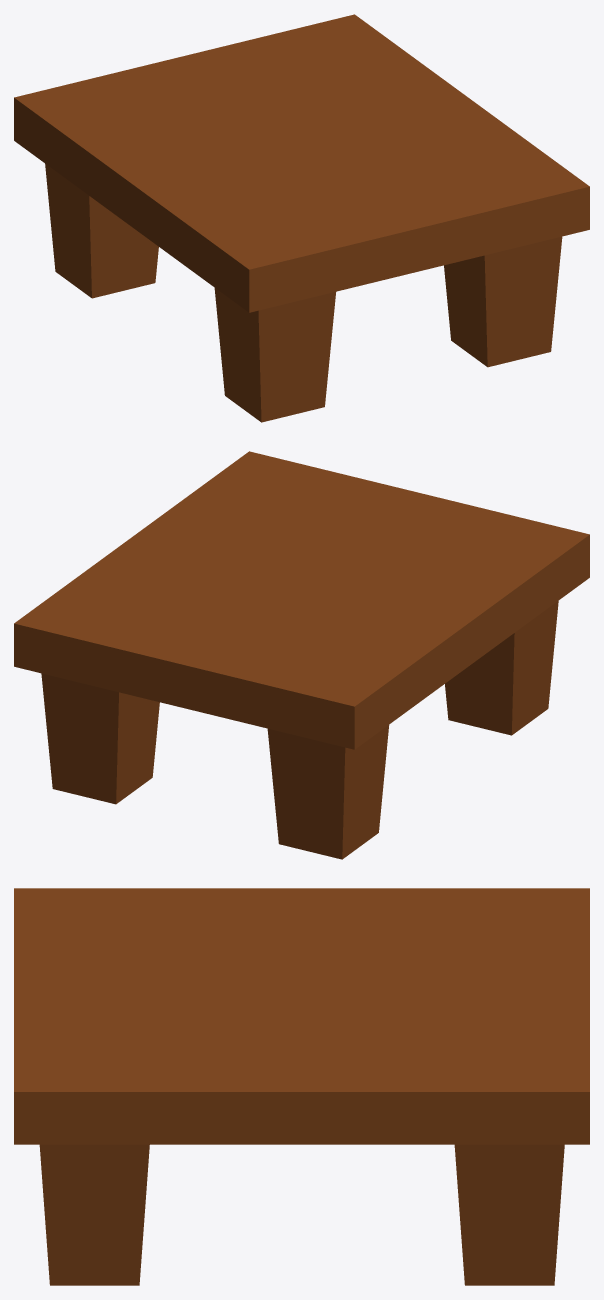
The model's file is Table_decoration.fbx.
3 views of the same model, one above another, from view 1: azimuth 30°, elevation 25°; view 2: azimuth 150°, elevation 25°; view 3: azimuth 270°, elevation 25° (orthographic). The views are drawn at different scales.
Parts seen in each view (by area): view 1: Table_decoration; view 2: Table_decoration; view 3: Table_decoration.
Part boxes in pixels (box(x1,y1,x2,y2)): Table_decoration: box(14, 14, 589, 422); Table_decoration: box(14, 451, 589, 859); Table_decoration: box(14, 888, 589, 1285).
Size of the model in its own units: 223 by 106 by 267.
